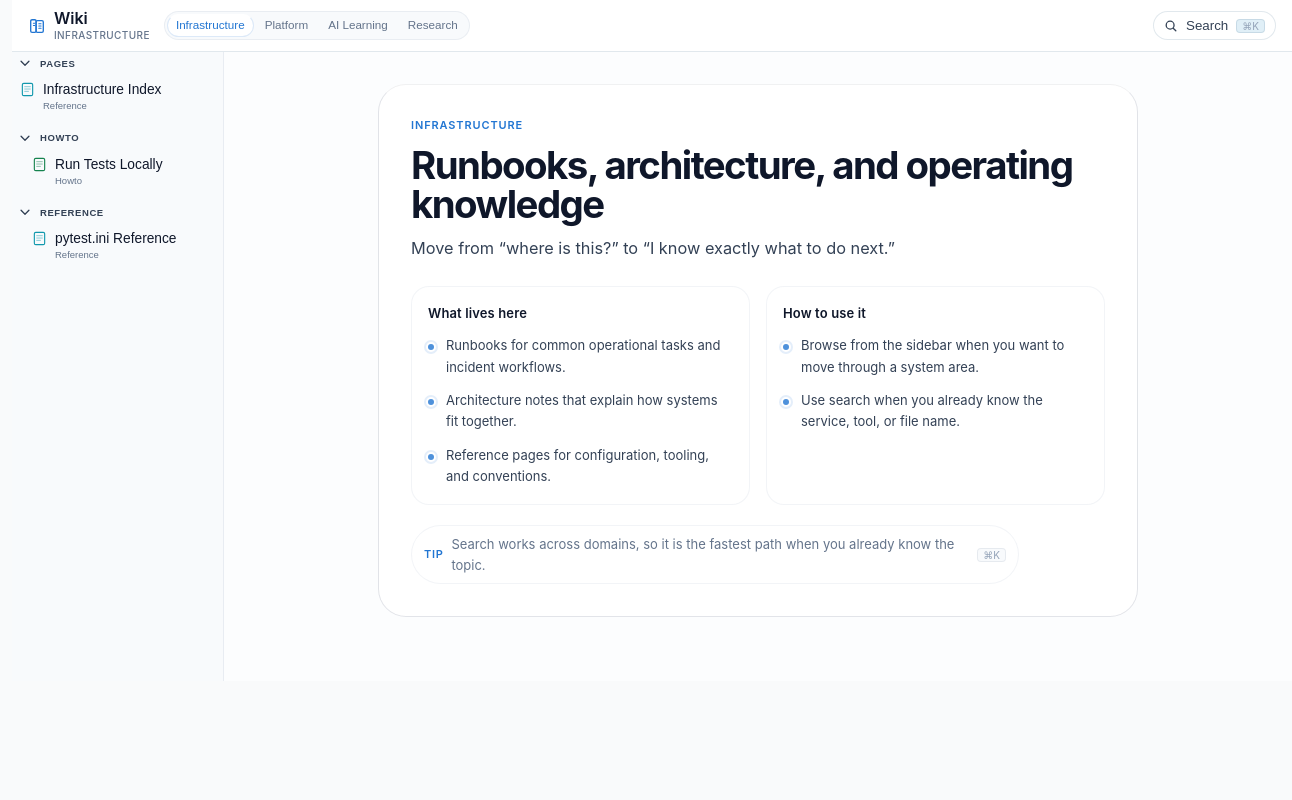
Test: WikiPage › renders a polished domain landing and opens an article from the sidebar
Expected: the heading "Runbooks, architecture, and operating knowledge" is shown, [411,146,1105,223]
Expected: the text "What lives here" is shown, [428,305,527,321]
Click the button "Run Tests Locally Howto". click: [118, 171]
box: [15,150,220,193]
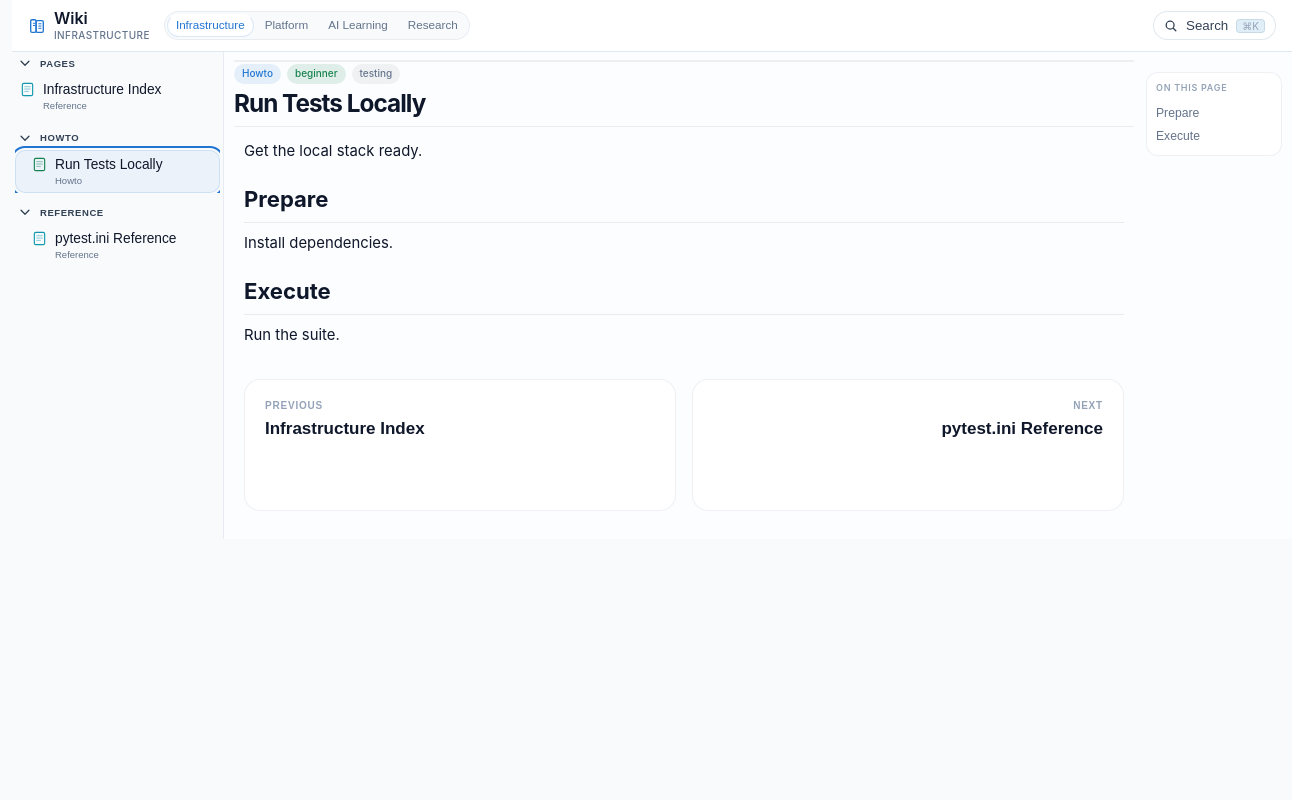
Expected: the heading "Run Tests Locally" is shown, [234,88,425,118]
Expected: the text "Get the local stack ready." is shown once, [244,142,422,160]
Expected: the text "Previous" is shown, [265,400,323,412]
